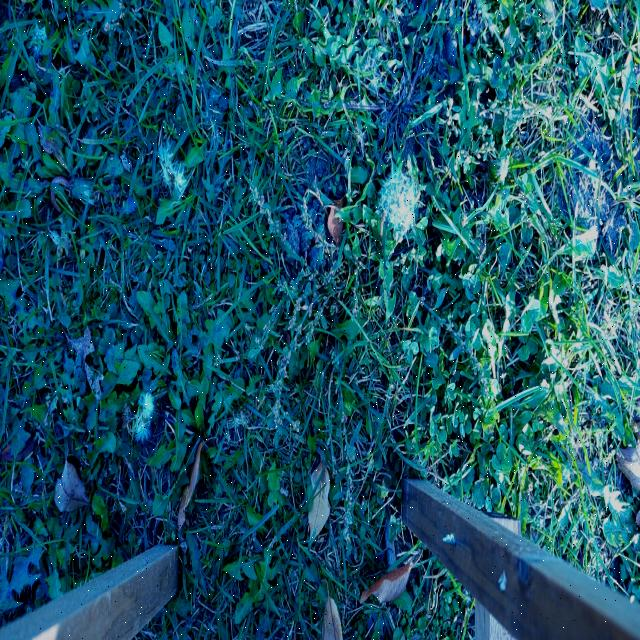dandelion: (0, 0, 640, 395)
